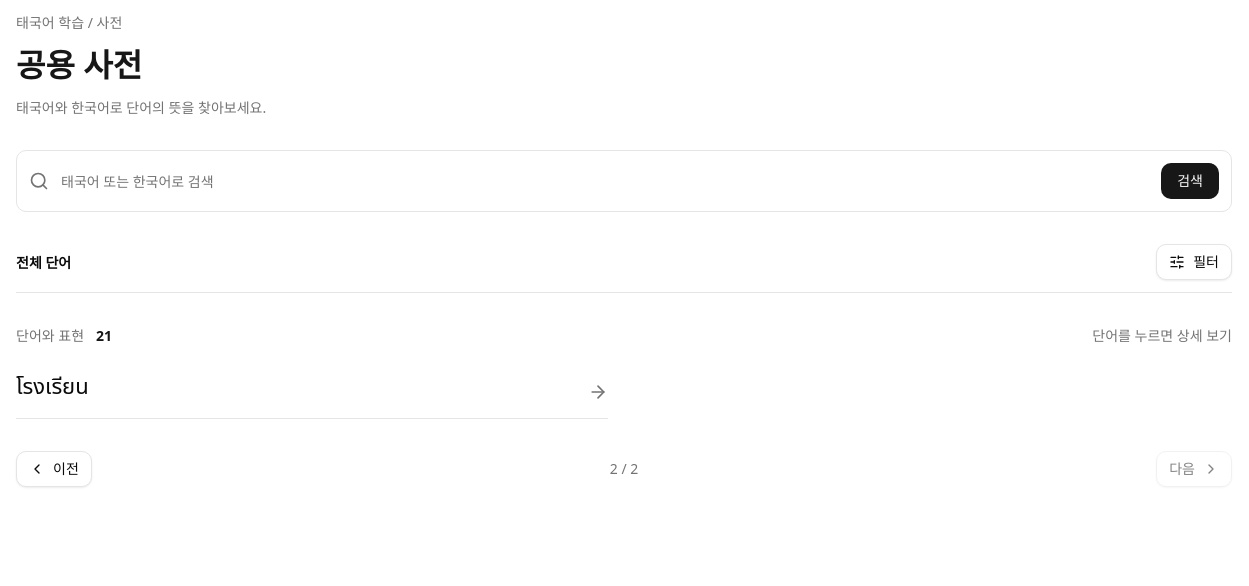
공용 사전 목록 › 검색 중심 화면을 제공하고 중복 분류 탭을 표시하지 않는다
The image size is (1249, 586).
Expected: the text "โรงเรียน" is shown, [16,370,89,406]
Expected: the heading "공용 사전" is shown, [16,43,142,86]
What coordinates should you click on to do the following:
click the button "필터"
I would click on:
 (1194, 262)
Its box is [1156,244,1232,280].
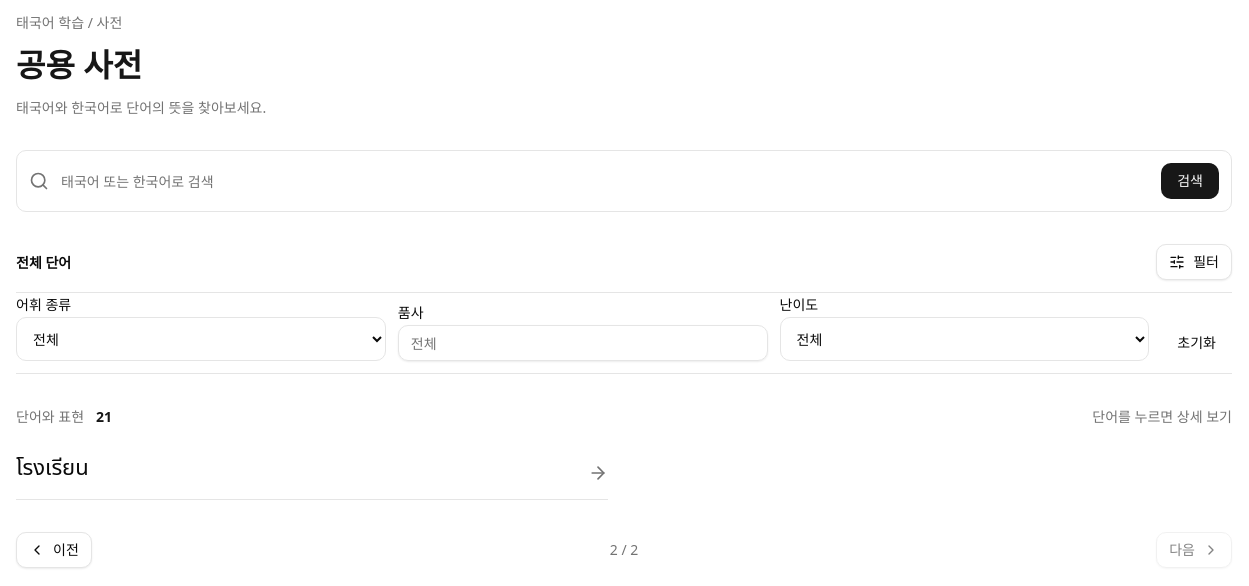
Expected: the dropdown labelled "어휘 종류" is shown, [16,317,386,361]
